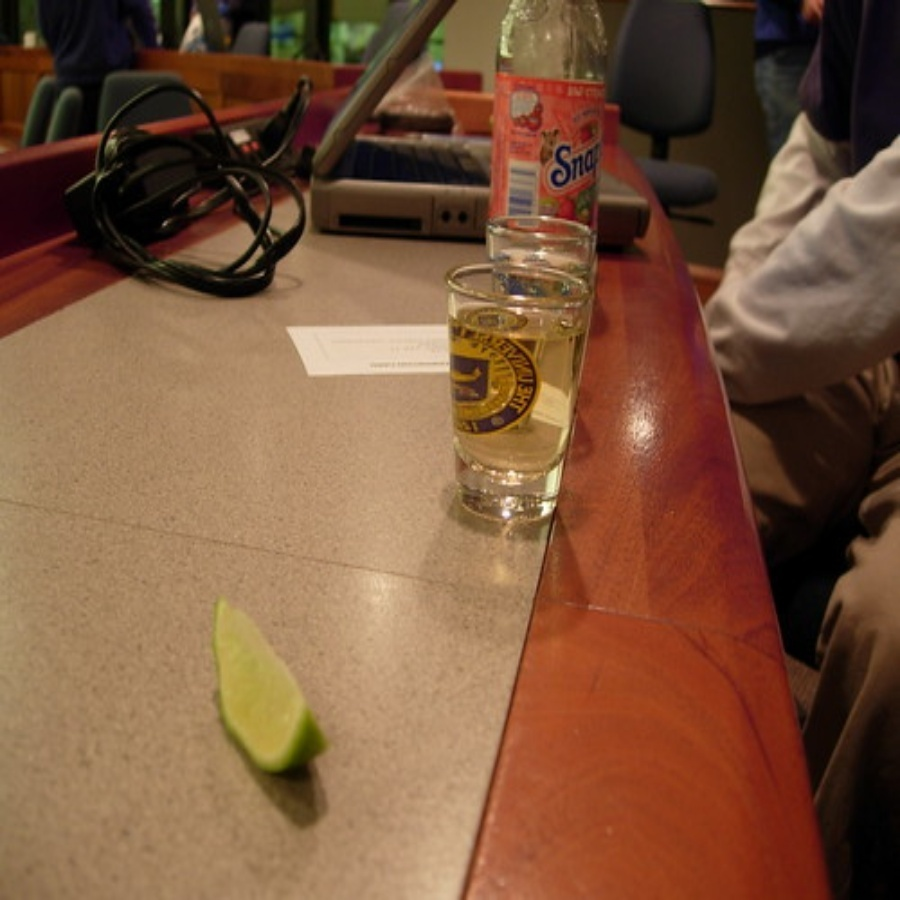whiskey: (434, 266, 586, 520)
